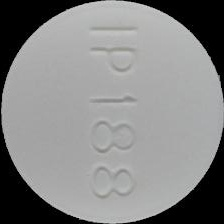61786-107: (0, 0, 224, 224)
